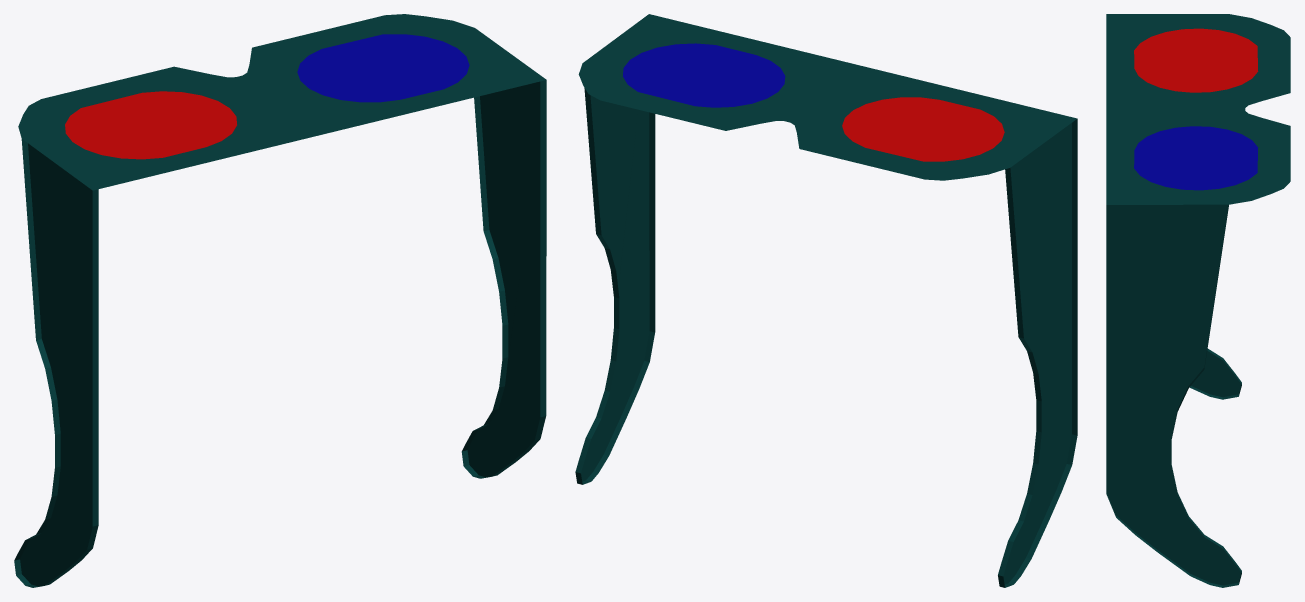
The model's file is 3DGLASS.glb.
The picture shows the model from 3 angles, left to right: view 1: azimuth 30°, elevation 25°; view 2: azimuth 150°, elevation 25°; view 3: azimuth 270°, elevation 25°; orthographic projection. The views are drawn at different scales.
Visible parts, largest first — view 1: _0; view 2: _0; view 3: _0.
Boxes of the visible parts, x1,y1,x2,y2 form: _0: (14,14,546,587); _0: (575,14,1077,587); _0: (1106,14,1290,587).
Bounding box in the file's own units: 4.21 × 3.94 × 1.71.
